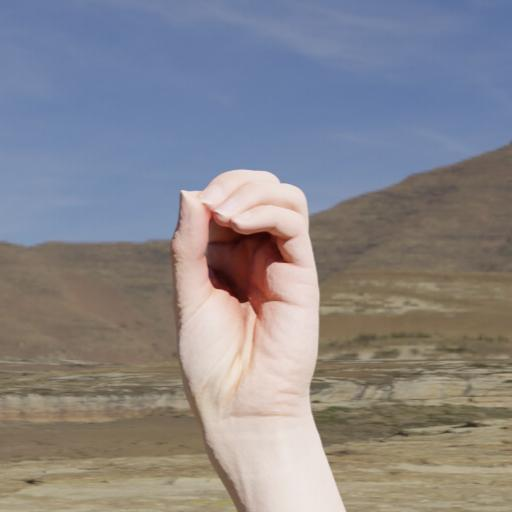O: (168, 165, 326, 431)
